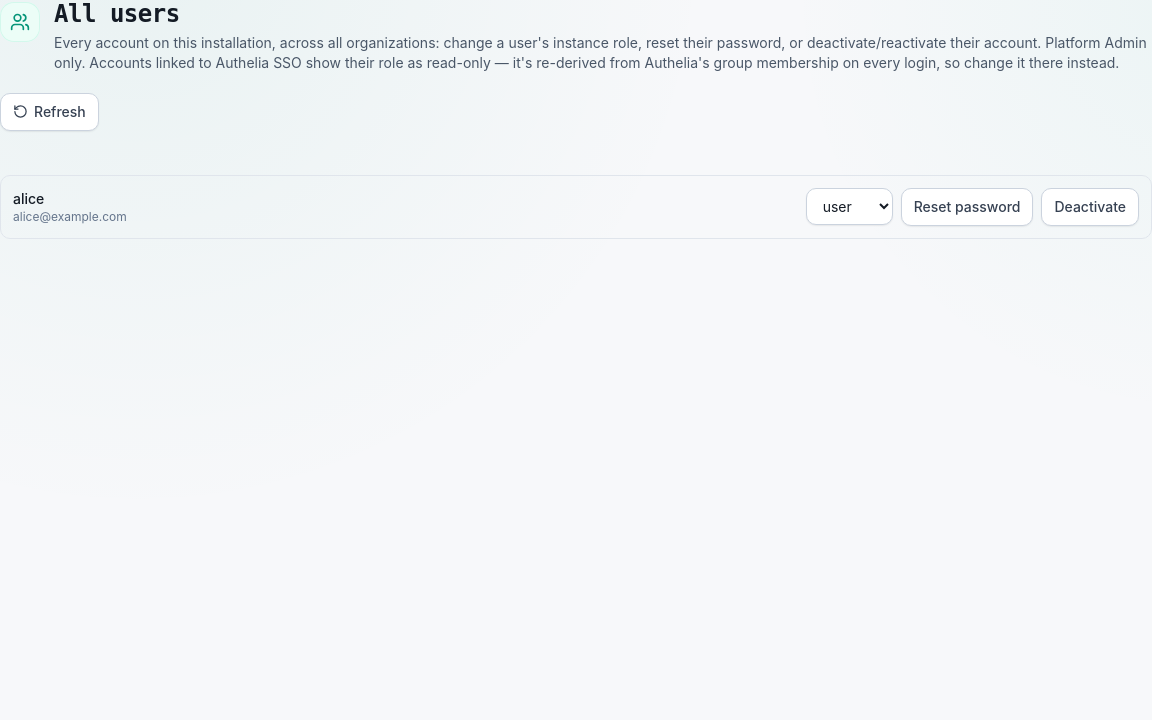
Test: UsersPage › reset password (#1776) › surfaces a server refusal in the dialog
Expected: the text "alice" is shown, [13,190,44,207]
Step 1. Click the button "Reset password" → (967, 207), box [901,188,1033,226]
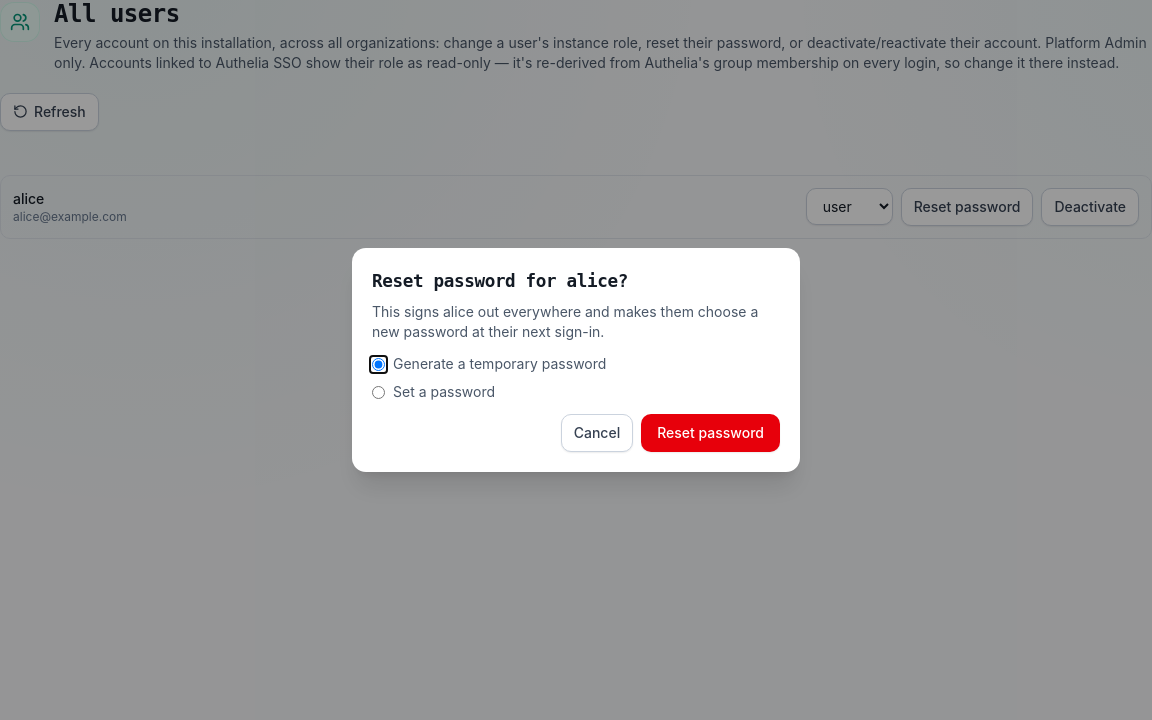
Step 2. Click the button "Reset password" → (711, 433), box [641,414,780,452]
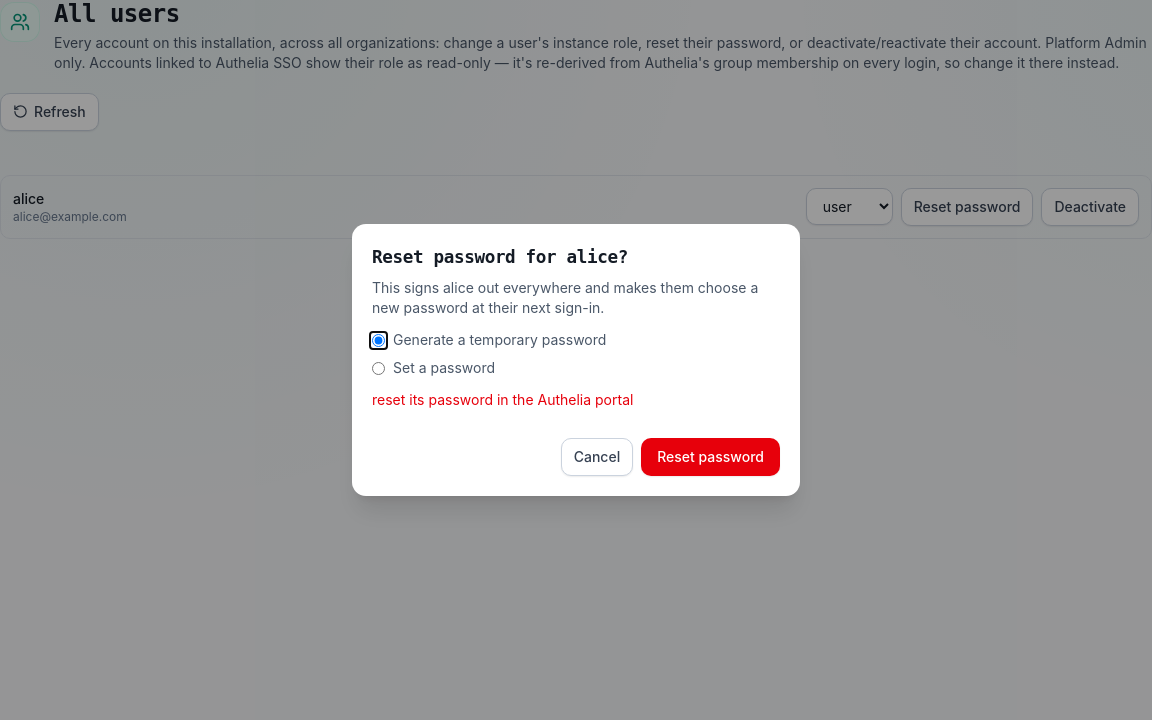
Now the text "reset its password in the Authelia portal" is shown, box [372,391,633,408]
